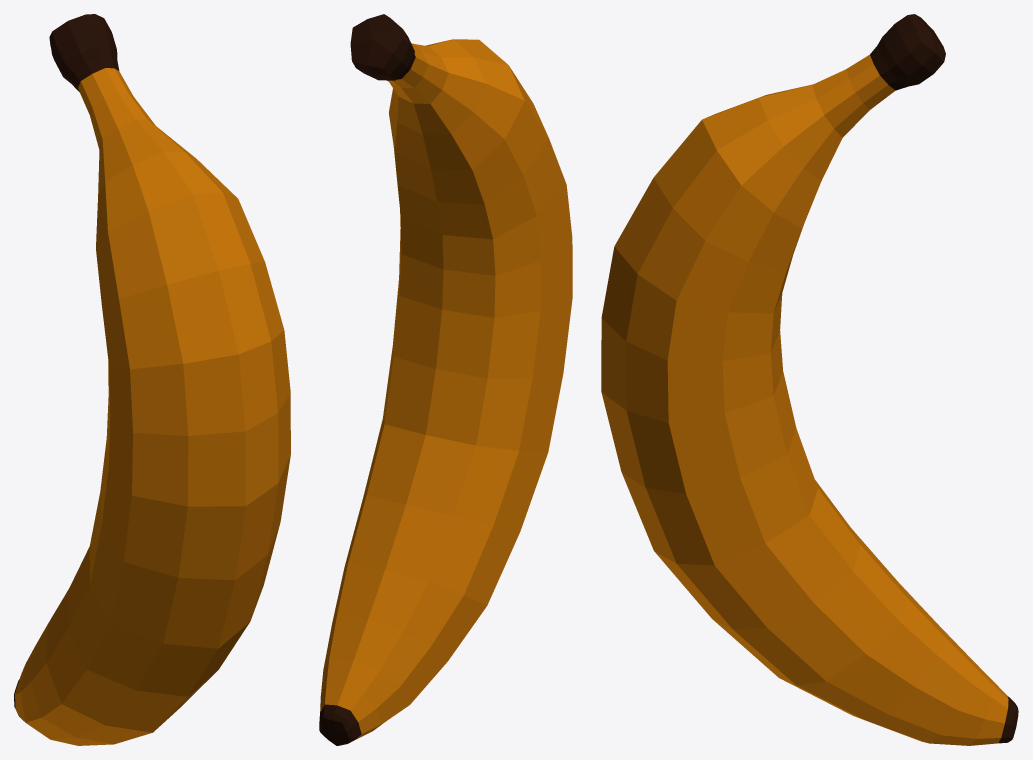
File: Banana_000000.obj
3 renders of one model, left to right at view 1: azimuth 30°, elevation 25°; view 2: azimuth 150°, elevation 25°; view 3: azimuth 270°, elevation 25°, orthographic. The views are drawn at different scales.
Visible parts, largest first — view 1: Banana_to_export_Cylinder.001; view 2: Banana_to_export_Cylinder.001; view 3: Banana_to_export_Cylinder.001.
Boxes of the visible parts, <box> form: Banana_to_export_Cylinder.001: <box>14,14,290,745</box>; Banana_to_export_Cylinder.001: <box>319,14,572,745</box>; Banana_to_export_Cylinder.001: <box>601,14,1018,745</box>.
Size of the model in its own units: 0.1401 by 0.6166 by 0.3191.
